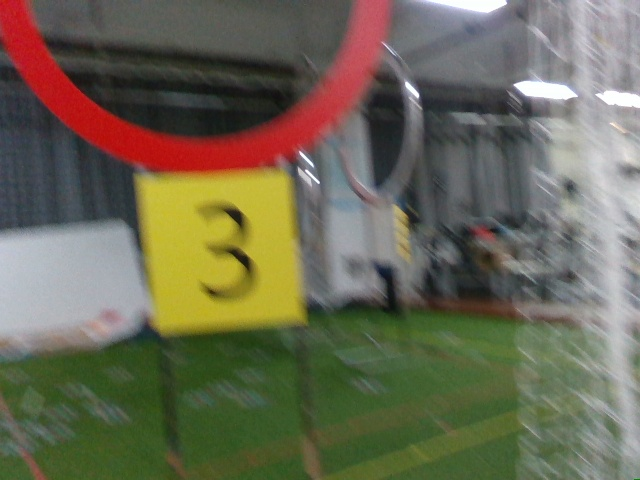target: (146, 191, 298, 313)
